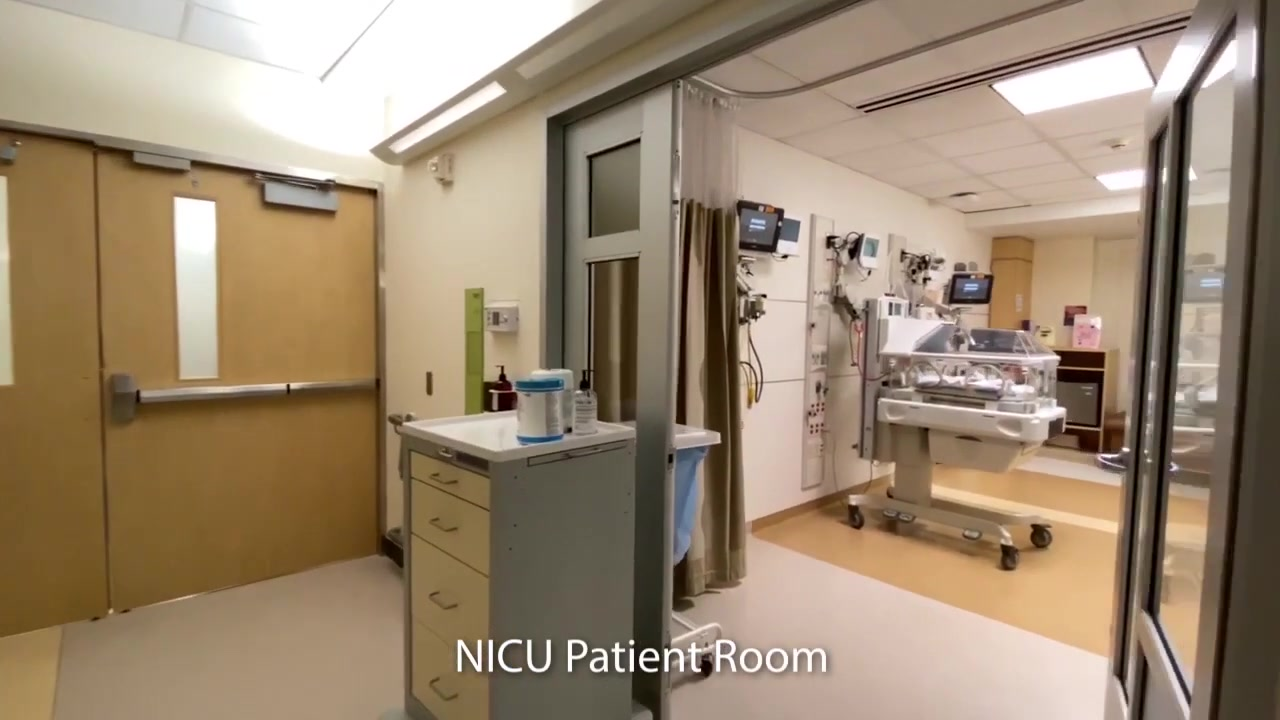bedside_monitor: (735, 198, 787, 253), (947, 272, 995, 307), (780, 210, 807, 259), (855, 231, 883, 271)
curtain: (675, 75, 748, 599)
dispenser: (572, 370, 599, 435), (493, 362, 512, 410)
door_handle: (1095, 448, 1130, 477)
handle: (426, 674, 460, 703), (426, 588, 458, 612), (426, 514, 460, 534), (567, 444, 605, 461), (427, 471, 459, 486)
incubator: (846, 297, 1066, 572)
medical_drawer: (399, 408, 634, 720)
push_latch: (111, 377, 376, 427)
waste_bin: (673, 423, 726, 683)
